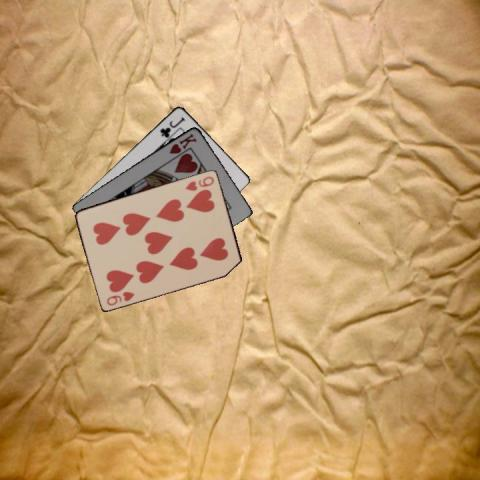9h: (103, 288, 136, 307), (183, 173, 215, 192)
Jc: (157, 113, 186, 139)
Kh: (166, 130, 198, 155)
